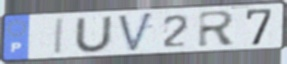2: (162, 13, 191, 49)
7: (244, 7, 273, 46)
I: (52, 16, 66, 56)
R: (197, 9, 238, 49)
U: (73, 15, 114, 54)
V: (116, 11, 156, 54)
